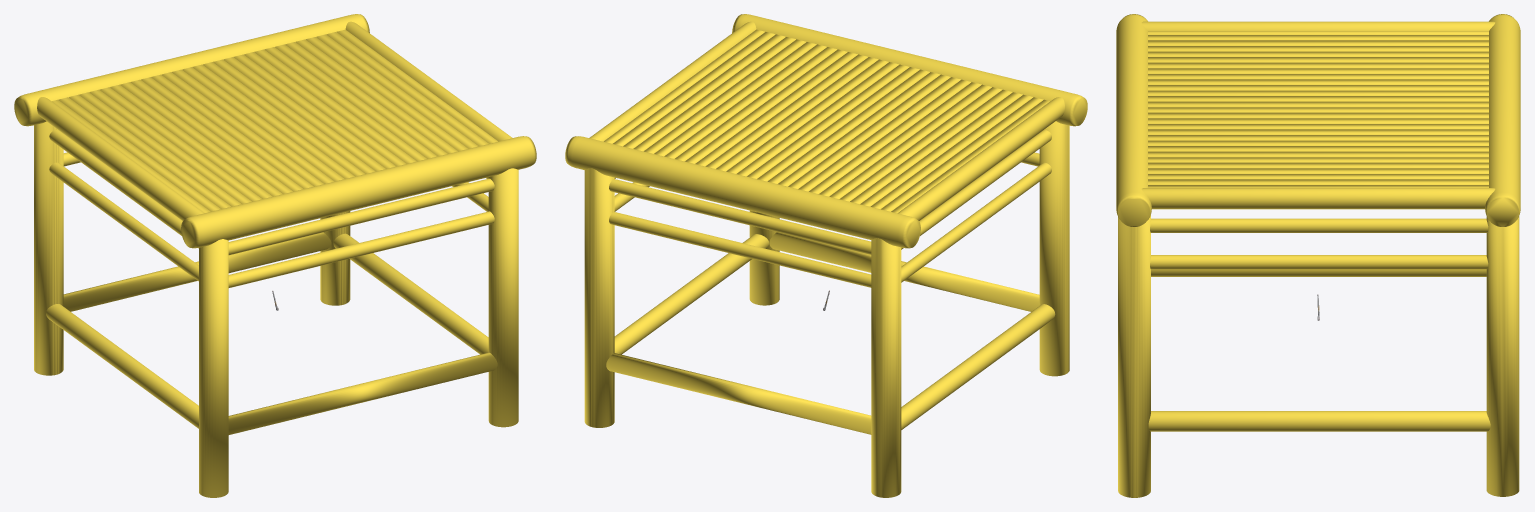
File: bantre.fbx
3 views of the same model, side by side, from view 1: azimuth 30°, elevation 25°; view 2: azimuth 150°, elevation 25°; view 3: azimuth 270°, elevation 25° (orthographic). The views are drawn at different scales.
Parts seen in each view (by area): view 1: BAN; view 2: BAN; view 3: BAN.
Boxes of the visible parts, x1,y1,x2,y2 form: BAN: (14,14,536,497); BAN: (565,14,1087,497); BAN: (1116,14,1520,497).
Size of the model in its own units: 1601 by 1252 by 1488.
